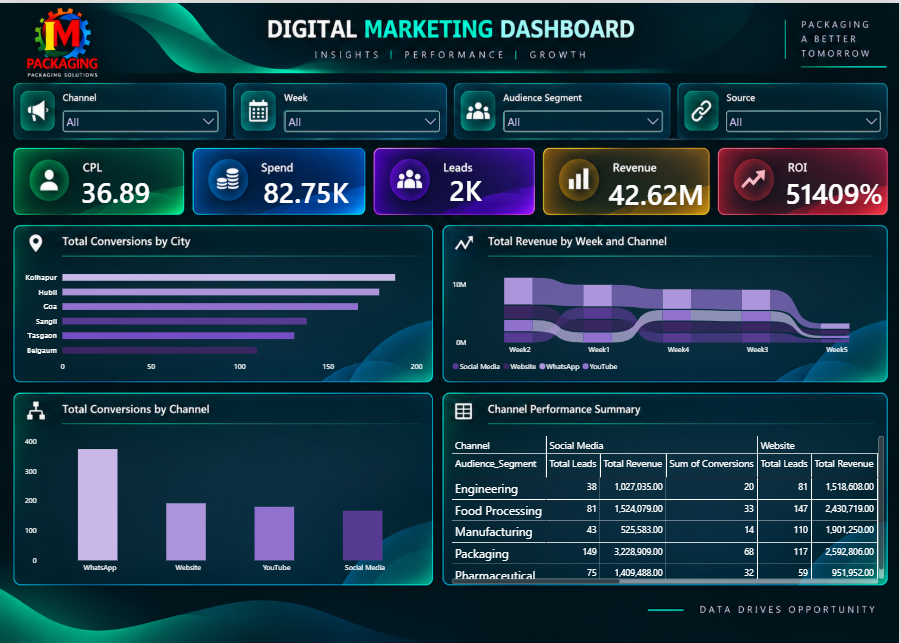

The page's visual inventory and layout, read from the dashboard file:
{"tool":"powerbi","page":{"name":"Page 2","canvas":[2350,1600],"ordinal":1},"visuals":[{"type":"shape","box":[67.2,88.4,2216.3,127.2],"z":0},{"type":"shape","box":[60.1,257.4,385.3,289.8],"z":1000},{"type":"shape","box":[1056.9,618.6,1237.1,456],"z":2000},{"type":"shape","box":[1056.9,1106.4,1208.9,459.5],"z":3000},{"type":"shape","box":[10.6,618.6,487.8,982.6],"z":4000},{"type":"shape","box":[544.3,1134.6,456,431.2],"z":5000},{"type":"shape","box":[544.3,618.6,456,456],"z":6000},{"type":"shape","box":[517.8,264.4,385.3,289.8],"z":7000},{"type":"shape","box":[975.6,264.4,385.3,289.8],"z":8000},{"type":"shape","box":[1433.3,264.4,385.3,289.8],"z":9000},{"type":"shape","box":[1891.1,264.4,385.3,289.8],"z":10000},{"type":"shape","box":[67.2,215.6,2216.3,63.6],"z":11000},{"type":"shape","box":[300.4,275,367.6,268.6],"z":12000},{"type":"shape","box":[758.8,275,367.6,268.6],"z":13000},{"type":"shape","box":[1217.1,275,367.6,268.6],"z":14000},{"type":"shape","box":[1675.4,275,367.6,268.6],"z":15000},{"type":"shape","box":[335.8,714,367.6,802.4],"z":16000},{"type":"shape","box":[837.7,703.4,367.6,802.4],"z":17000},{"type":"shape","box":[63.6,547.9,2216.3,63.6],"z":18000},{"type":"cardVisual","title":"ROI","fields":{"Data":["im_packaging_marketing master_marketing.ROI"]},"box":[1929.9,314.6,300.4,187.3],"z":19000},{"type":"cardVisual","title":"Revenue","fields":{"Data":["im_packaging_marketing master_marketing.Total Revenue"]},"box":[1477.5,314.6,300.4,187.3],"z":20000},{"type":"cardVisual","title":"Leads","fields":{"Data":["im_packaging_marketing master_marketing.Total Leads"]},"box":[1014.5,314.6,300.4,187.3],"z":21000},{"type":"cardVisual","title":"Spend","fields":{"Data":["im_packaging_marketing master_marketing.Total Spend"]},"box":[544.3,314.6,300.4,187.3],"z":22000},{"type":"cardVisual","title":"CPL","fields":{"Data":["im_packaging_marketing master_marketing.Cost Per Lead"]},"box":[99,314.6,300.4,187.3],"z":23000},{"type":"columnChart","fields":{"Y":["im_packaging_marketing master_marketing.Total Conversions"],"Category":["im_packaging_marketing master_marketing.Channel"]},"box":[544.3,1166.4,456,374.7],"z":24000},{"type":"ribbonChart","fields":{"Y":["im_packaging_marketing master_marketing.Total Revenue"],"Series":["im_packaging_marketing master_marketing.Channel"],"Category":["im_packaging_marketing master_marketing.week"]},"box":[1088.7,650.4,1159.4,406.5],"z":25000},{"type":"clusteredBarChart","title":"Total Conversions by City","fields":{"Category":["im_packaging_marketing master_marketing.City"],"Y":["Sum(im_packaging_marketing master_marketing.Conversions)"]},"box":[544.3,650.4,456,424.2],"z":26000},{"type":"pivotTable","fields":{"Rows":["im_packaging_marketing master_marketing.Audience_Segment"],"Columns":["im_packaging_marketing master_marketing.Channel"],"Values":["im_packaging_marketing master_marketing.Total Leads","im_packaging_marketing master_marketing.Total Revenue","Sum(im_packaging_marketing master_marketing.Conversions)"]},"box":[1088.7,1134.6,1173.5,406.5],"z":27000},{"type":"slicer","fields":{"Values":["im_packaging_marketing master_marketing.Channel"]},"box":[99,106,480.7,106],"z":27001},{"type":"slicer","fields":{"Values":["im_packaging_marketing master_marketing.Source"]},"box":[1767.3,106,480.7,106],"z":27002},{"type":"slicer","fields":{"Values":["im_packaging_marketing master_marketing.Audience_Segment"]},"box":[1211.2,106,480.7,106],"z":27003},{"type":"slicer","fields":{"Values":["im_packaging_marketing master_marketing.week"]},"box":[655.1,106,480.7,106],"z":27004},{"type":"textbox","box":[35.3,1056.9,448.9,509],"z":27005},{"type":"image","box":[10.6,650.4,505.5,406.5],"z":27006}]}

Visuals, with their boxes on the page's 2350x1600 design canvas (x1, y1, x2, y2). These are canvas units, not pixel positions in the 901x643 screenshot, which may show the page scaled, cropped or inside an application window:
shape: box(67, 88, 2284, 216)
shape: box(60, 257, 445, 547)
shape: box(1057, 619, 2294, 1075)
shape: box(1057, 1106, 2266, 1566)
shape: box(11, 619, 498, 1601)
shape: box(544, 1135, 1000, 1566)
shape: box(544, 619, 1000, 1075)
shape: box(518, 264, 903, 554)
shape: box(976, 264, 1361, 554)
shape: box(1433, 264, 1819, 554)
shape: box(1891, 264, 2276, 554)
shape: box(67, 216, 2284, 279)
shape: box(300, 275, 668, 544)
shape: box(759, 275, 1126, 544)
shape: box(1217, 275, 1585, 544)
shape: box(1675, 275, 2043, 544)
shape: box(336, 714, 703, 1516)
shape: box(838, 703, 1205, 1506)
shape: box(64, 548, 2280, 612)
"ROI" cardVisual: box(1930, 315, 2230, 502)
"Revenue" cardVisual: box(1478, 315, 1778, 502)
"Leads" cardVisual: box(1014, 315, 1315, 502)
"Spend" cardVisual: box(544, 315, 845, 502)
"CPL" cardVisual: box(99, 315, 399, 502)
columnChart - im_packaging_marketing master_marketing.Total Conversions x im_packaging_marketing master_marketing.Channel: box(544, 1166, 1000, 1541)
ribbonChart - im_packaging_marketing master_marketing.Total Revenue x im_packaging_marketing master_marketing.Channel: box(1089, 650, 2248, 1057)
"Total Conversions by City" clusteredBarChart: box(544, 650, 1000, 1075)
pivotTable - im_packaging_marketing master_marketing.Audience_Segment x im_packaging_marketing master_marketing.Channel: box(1089, 1135, 2262, 1541)
slicer - im_packaging_marketing master_marketing.Channel: box(99, 106, 580, 212)
slicer - im_packaging_marketing master_marketing.Source: box(1767, 106, 2248, 212)
slicer - im_packaging_marketing master_marketing.Audience_Segment: box(1211, 106, 1692, 212)
slicer - im_packaging_marketing master_marketing.week: box(655, 106, 1136, 212)
textbox: box(35, 1057, 484, 1566)
image: box(11, 650, 516, 1057)
